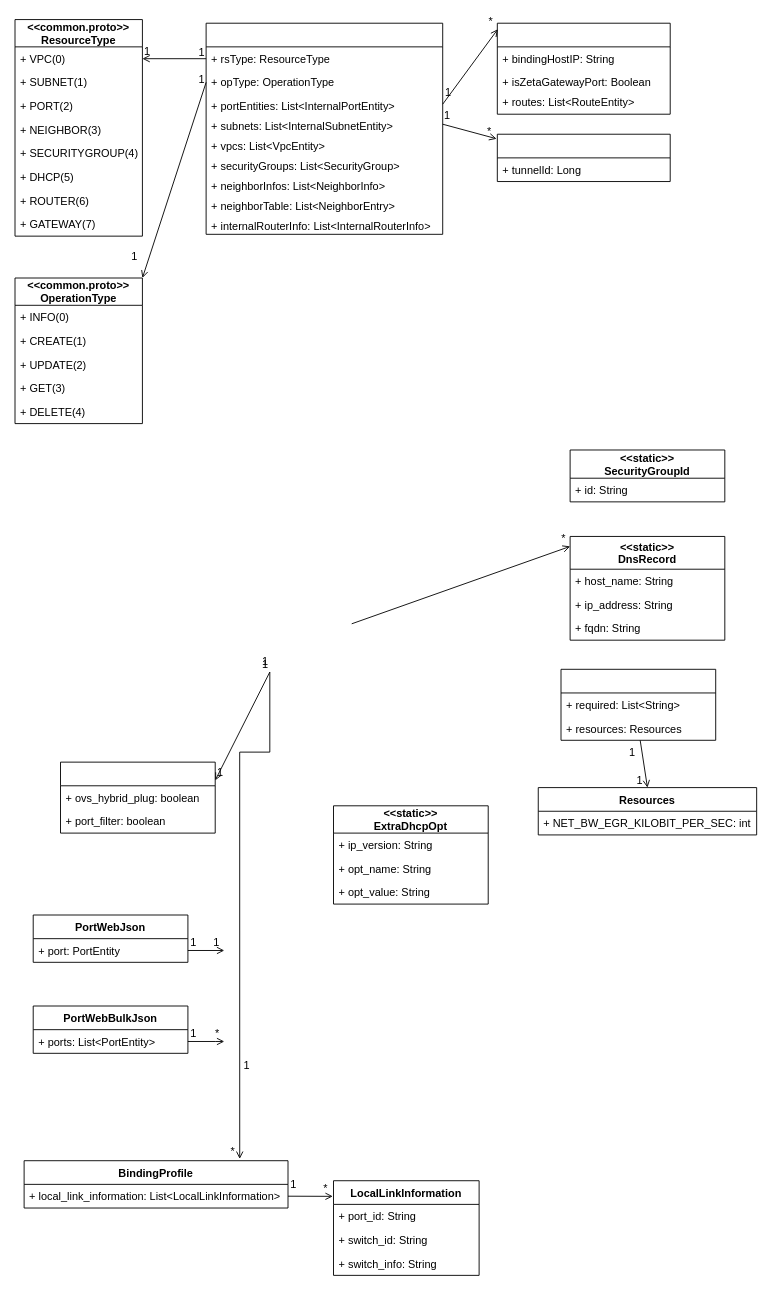
This 772x1290 diagram has some shape labels left out. Each missing label, with the box of its shape:
BindingVifDetails: (60, 761, 215, 833)
InternalPortEntity: (496, 22, 670, 114)
InternalSubnetEntity: (496, 133, 670, 182)
NetworkConfiguration: (205, 22, 443, 234)
ResourceRequest: (560, 668, 716, 740)
